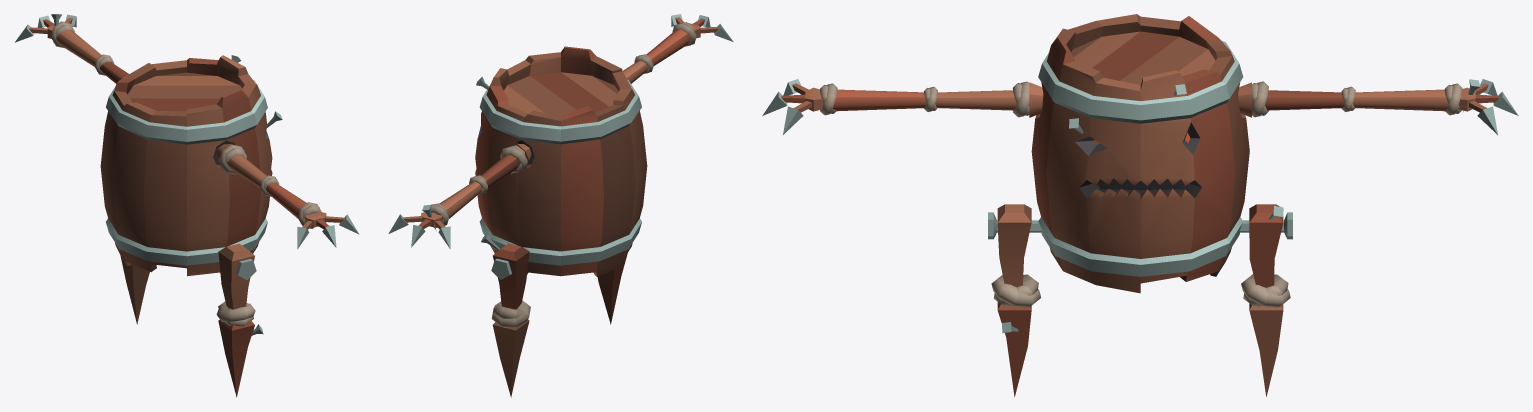
File: Boss_9_barrel.fbx
The picture shows the model from 3 angles, left to right: view 1: azimuth 30°, elevation 25°; view 2: azimuth 150°, elevation 25°; view 3: azimuth 270°, elevation 25°; orthographic projection. The views are drawn at different scales.
Parts seen in each view (by area): view 1: Boss_9_barrel; view 2: Boss_9_barrel; view 3: Boss_9_barrel.
Part boxes in pixels (bbox=[...]): Boss_9_barrel: bbox=[15, 14, 359, 397]; Boss_9_barrel: bbox=[388, 14, 733, 397]; Boss_9_barrel: bbox=[762, 14, 1518, 396].
Bounding box in the file's own units: 0.0465 × 0.0856 × 0.1619.
